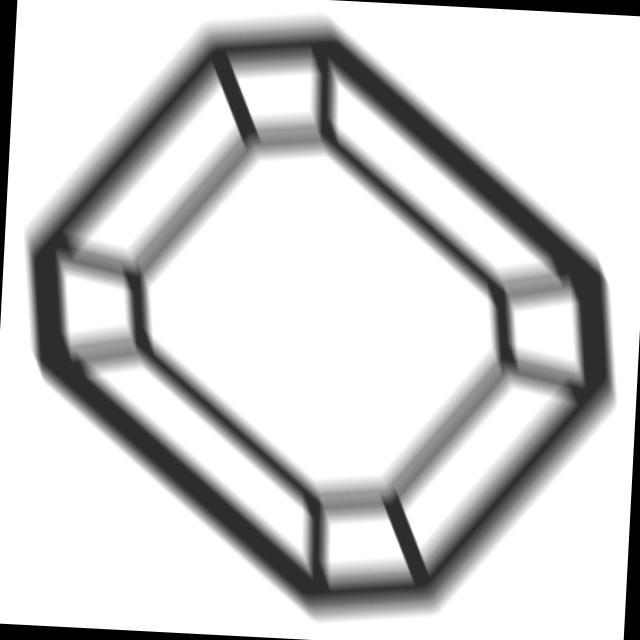emerald: (1, 1, 639, 640)
